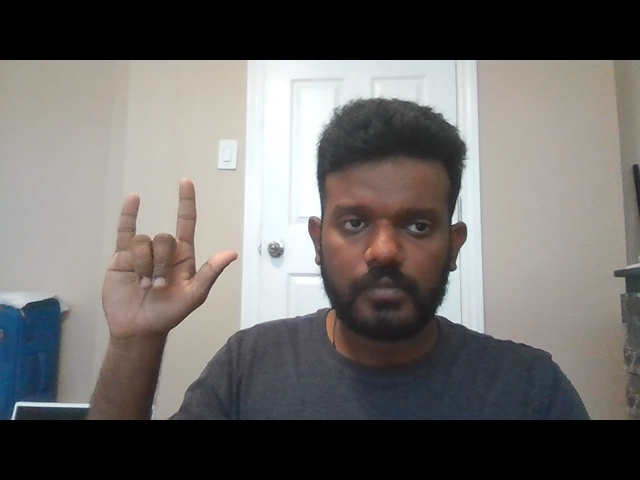iloveyou: (97, 174, 242, 336)
